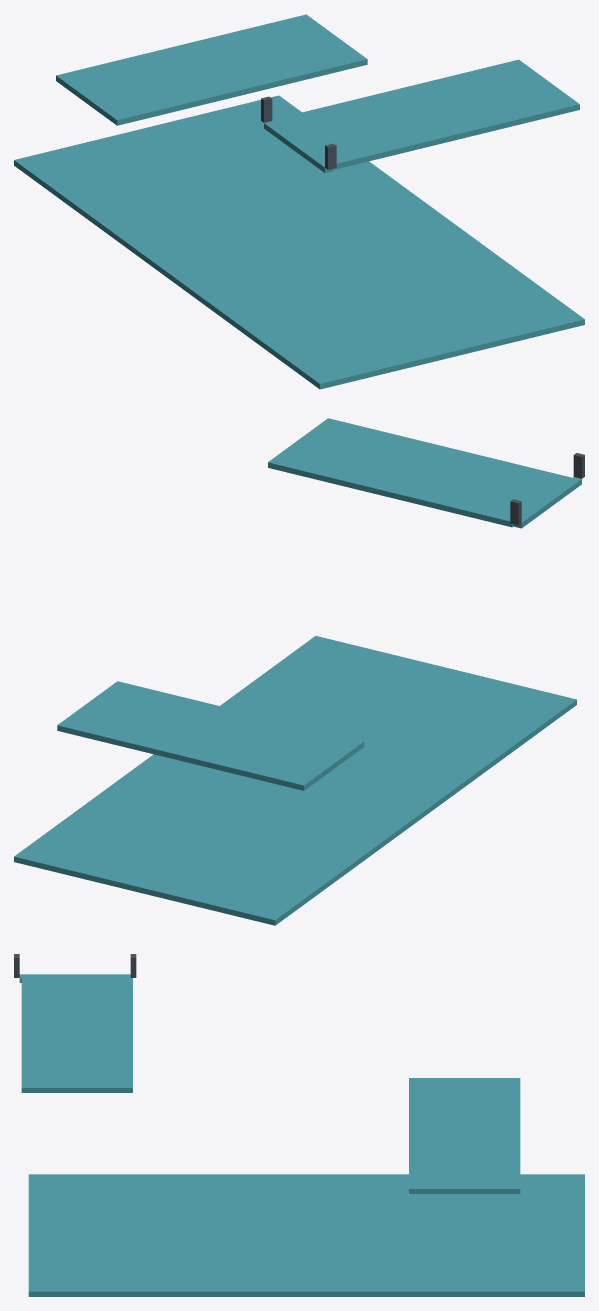
3 views of the same model, one above another, from view 1: azimuth 30°, elevation 25°; view 2: azimuth 150°, elevation 25°; view 3: azimuth 270°, elevation 25° (orthographic). The views are drawn at different scales.
Parts seen in each view (by area): view 1: Stair_Generic_Rotatable_LowerDoorLanding_Walkable, Stair_Generic_Rotatable_TurnLanding_Walkable, Stair_Generic_Rotatable_UpperDoorLanding_Walkable, Stair_Generic_Rotatable_CoreConnector_Walkable; view 2: Stair_Generic_Rotatable_LowerDoorLanding_Walkable, Stair_Generic_Rotatable_TurnLanding_Walkable, Stair_Generic_Rotatable_UpperDoorLanding_Walkable, Stair_Generic_Rotatable_CoreConnector_Walkable; view 3: Stair_Generic_Rotatable_LowerDoorLanding_Walkable, Stair_Generic_Rotatable_TurnLanding_Walkable, Stair_Generic_Rotatable_UpperDoorLanding_Walkable, Stair_Generic_Rotatable_CoreConnector_Walkable.
Boxes of the visible parts, <box> form: Stair_Generic_Rotatable_LowerDoorLanding_Walkable: <box>14,95,584,389</box>; Stair_Generic_Rotatable_TurnLanding_Walkable: <box>56,14,367,125</box>; Stair_Generic_Rotatable_UpperDoorLanding_Walkable: <box>272,59,579,169</box>; Stair_Generic_Rotatable_CoreConnector_Walkable: <box>264,121,333,173</box>; Stair_Generic_Rotatable_LowerDoorLanding_Walkable: <box>14,636,576,925</box>; Stair_Generic_Rotatable_TurnLanding_Walkable: <box>57,681,364,790</box>; Stair_Generic_Rotatable_UpperDoorLanding_Walkable: <box>268,418,571,527</box>; Stair_Generic_Rotatable_CoreConnector_Walkable: <box>513,477,581,528</box>; Stair_Generic_Rotatable_LowerDoorLanding_Walkable: <box>28,1174,584,1296</box>; Stair_Generic_Rotatable_TurnLanding_Walkable: <box>409,1078,520,1193</box>; Stair_Generic_Rotatable_UpperDoorLanding_Walkable: <box>21,978,132,1092</box>; Stair_Generic_Rotatable_CoreConnector_Walkable: <box>19,974,130,982</box>.
Bounding box in the file's own units: 15 × 13.4 × 30.8.
